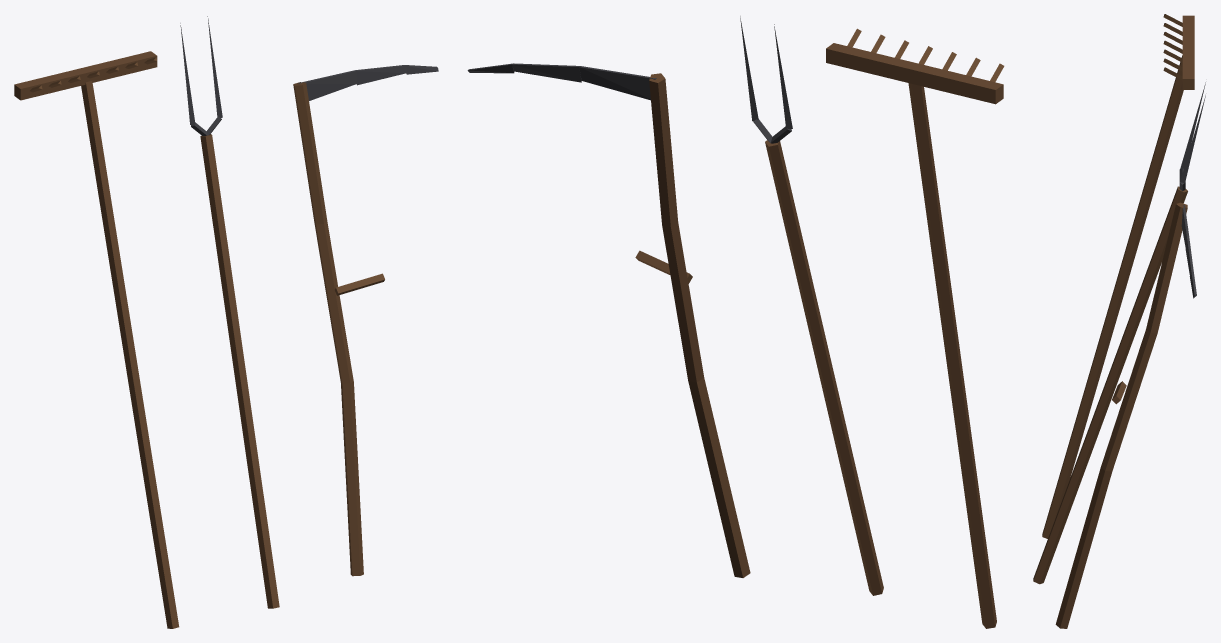
The model's file is FarmTools.fbx.
3 renders of one model, left to right at view 1: azimuth 30°, elevation 25°; view 2: azimuth 150°, elevation 25°; view 3: azimuth 270°, elevation 25°, orthographic. The views are drawn at different scales.
Parts seen in each view (by area): view 1: FarmTools; view 2: FarmTools; view 3: FarmTools.
Part boxes in pixels (left/top/right/bottom): FarmTools: left=14, top=16, right=438, bottom=628; FarmTools: left=467, top=16, right=1004, bottom=628; FarmTools: left=1033, top=14, right=1205, bottom=628.
Bounding box in the file's own units: 1.55 × 1.84 × 0.5754.
